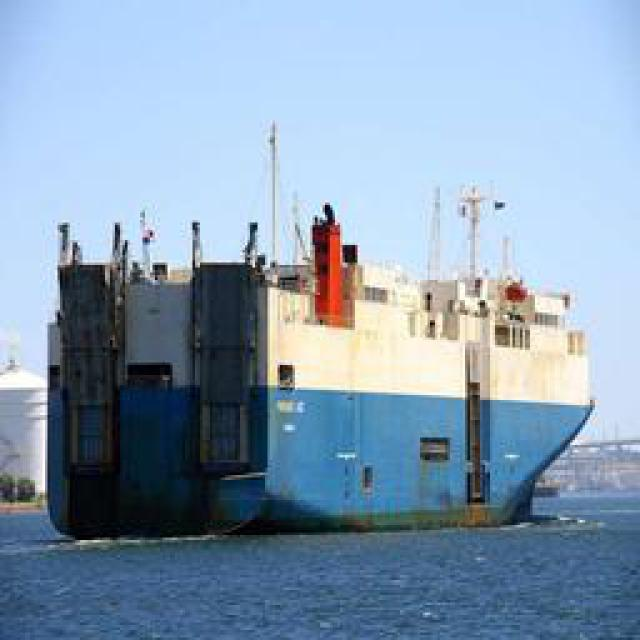Ship: (53, 126, 601, 541)
